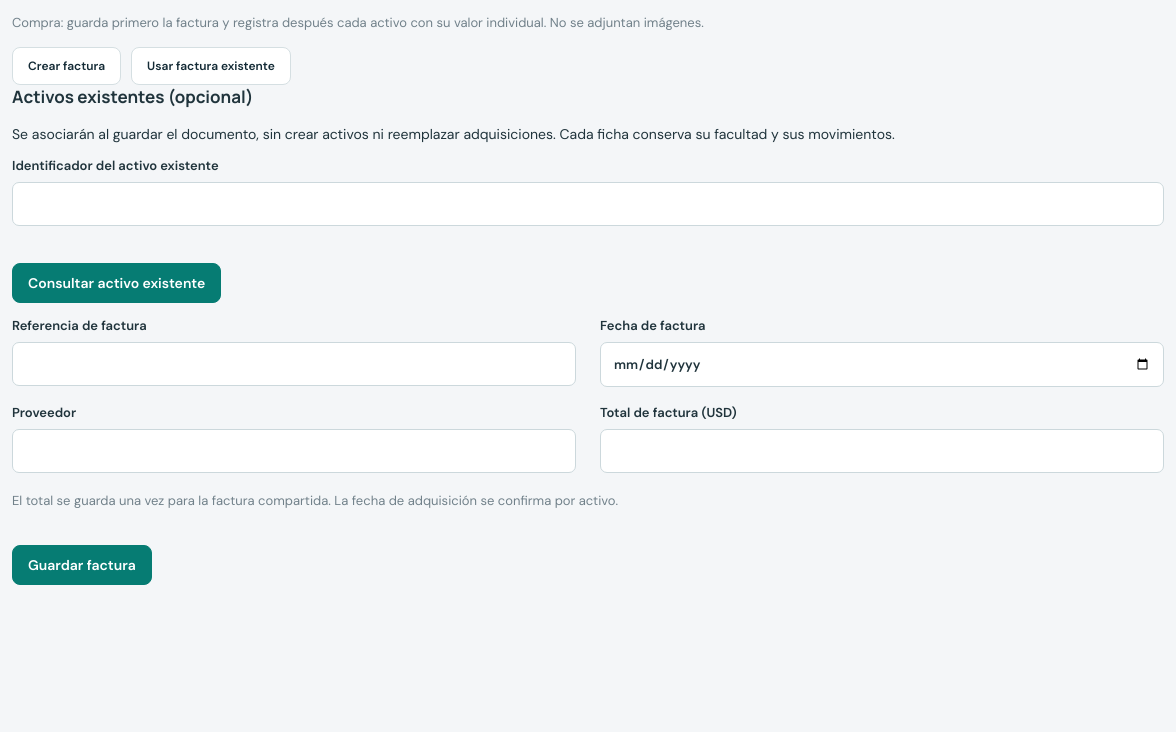
Test: factura inválida muestra error por campo y no habilita el registro
This screenshot has width=1176, height=732.
Type "TEST-FACTURA" into the field labelled "Referencia de factura" at (294, 364), box [12,342,576,386]
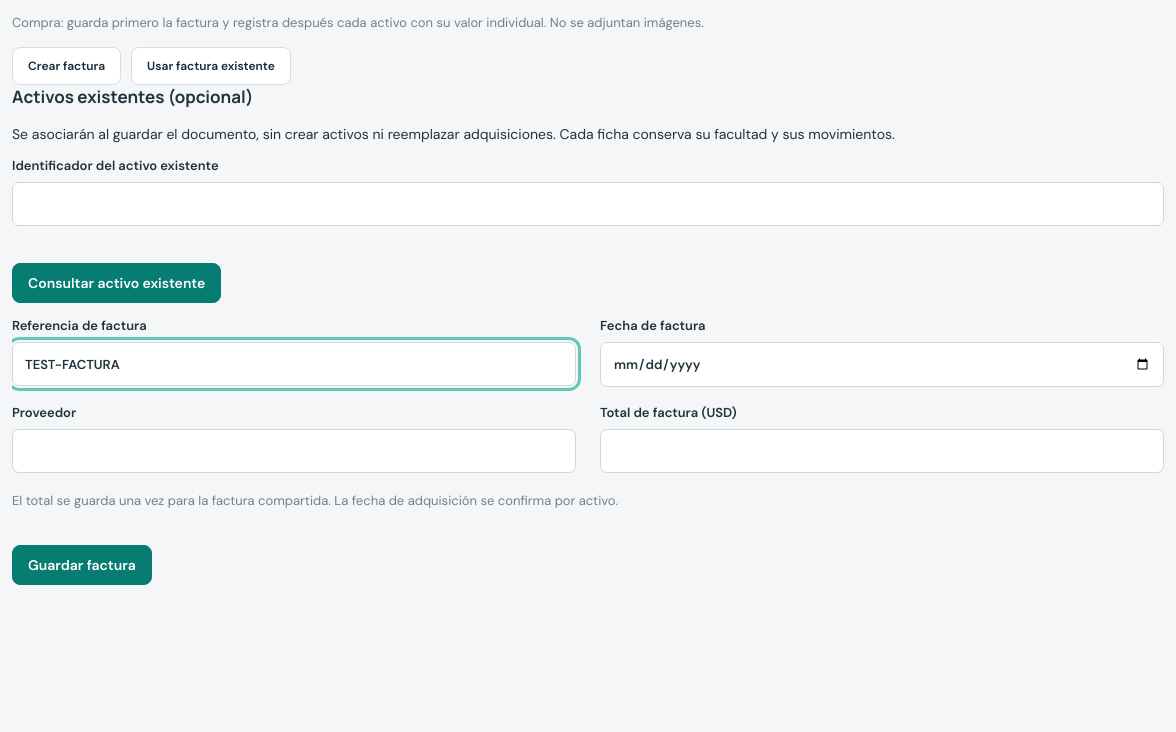
Type "2026-01-15" into the date field labelled "Fecha de factura" at (882, 365), box [600,342,1164,387]
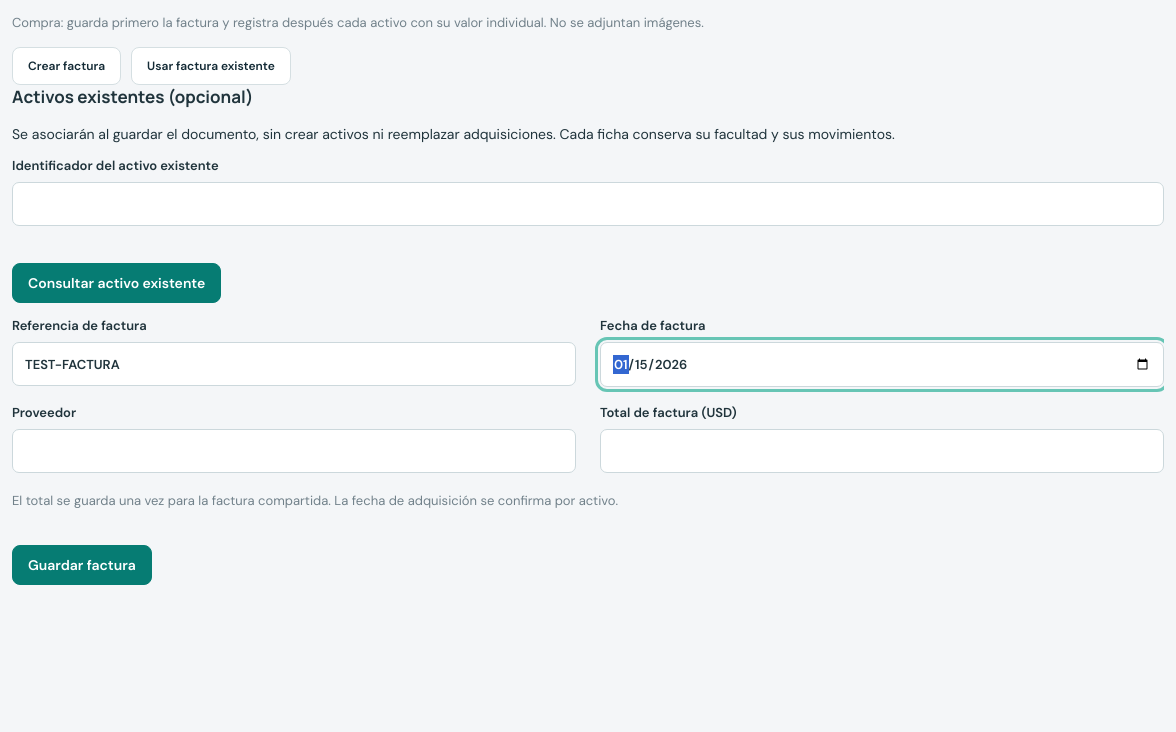
Type "Proveedor ficticio" into the field labelled "Proveedor" at (294, 451), box [12,429,576,473]
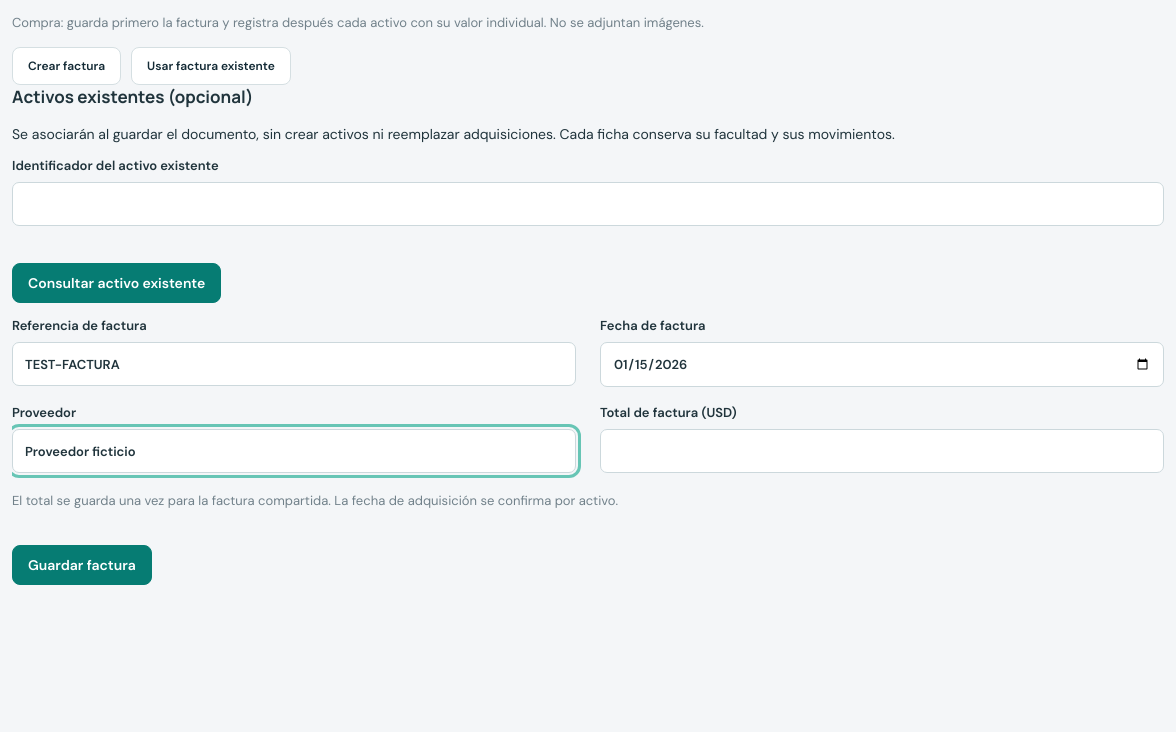
Type "1000.00" into the field labelled "Total de factura (USD)" at (882, 451), box [600,429,1164,473]
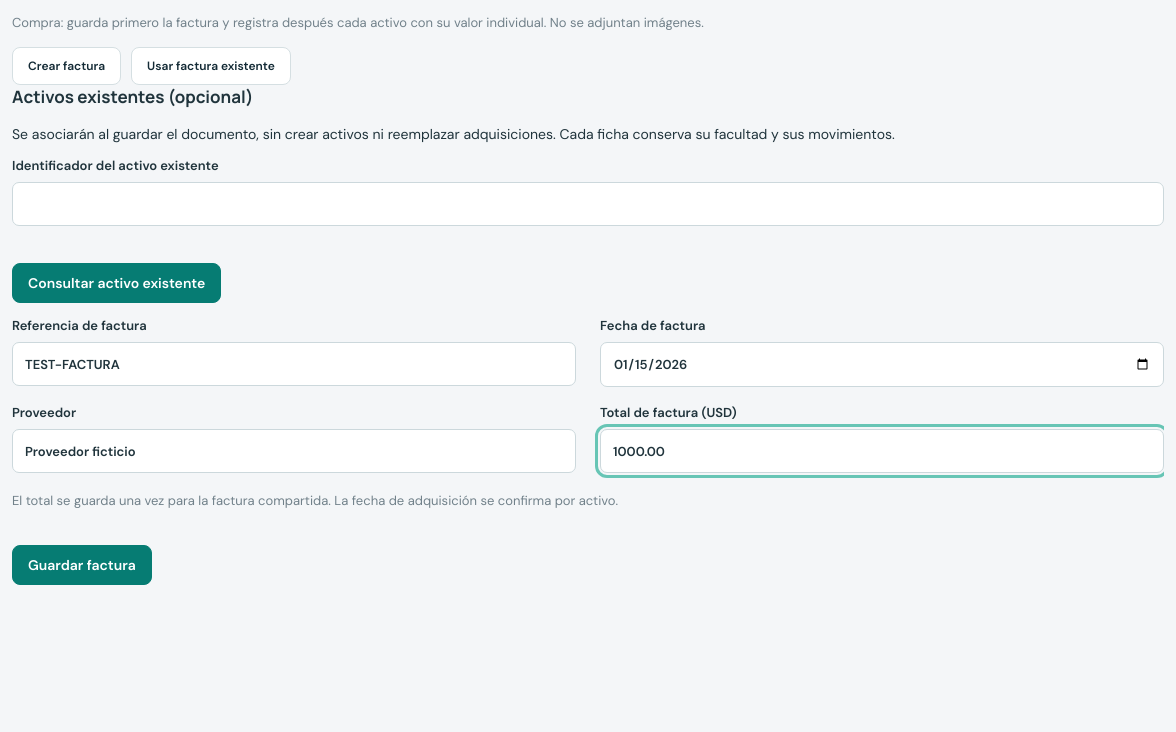
Click the button "Guardar factura" at (82, 565), box [12,545,152,585]
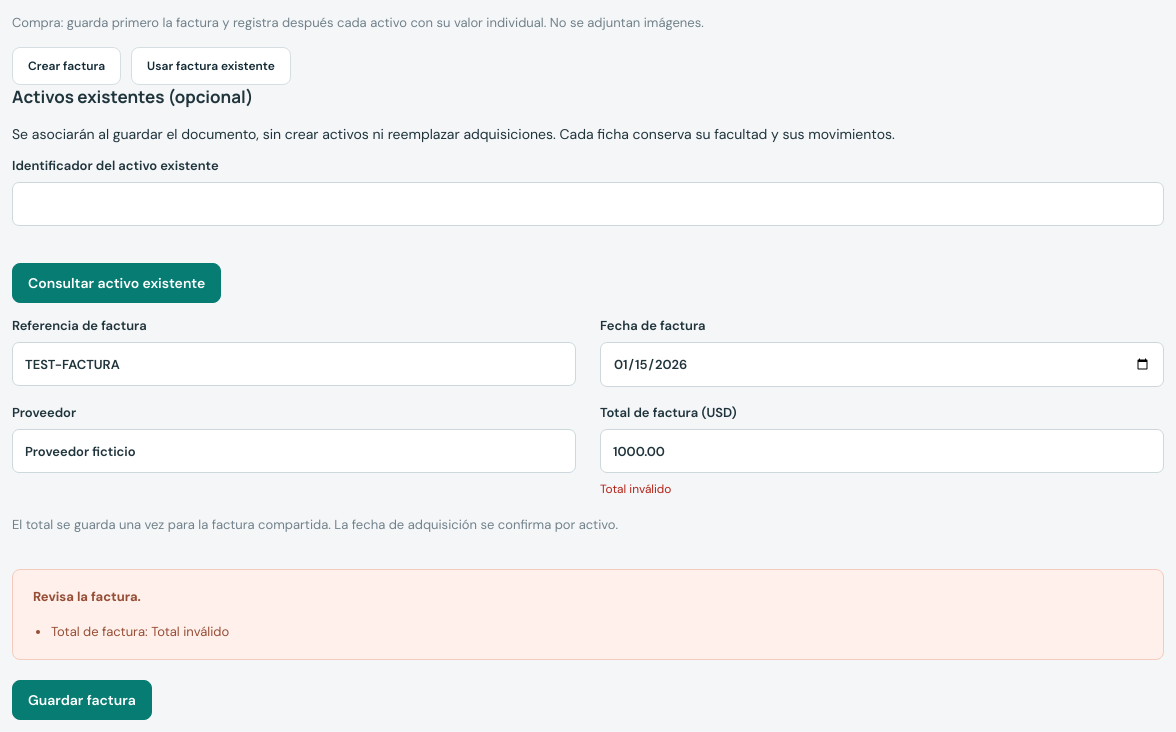
Result: the message "Revisa la factura. Total de factura: Total inválido" is shown at [12,569,1164,660]
